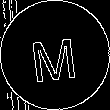M_N: (29, 27, 81, 83)
